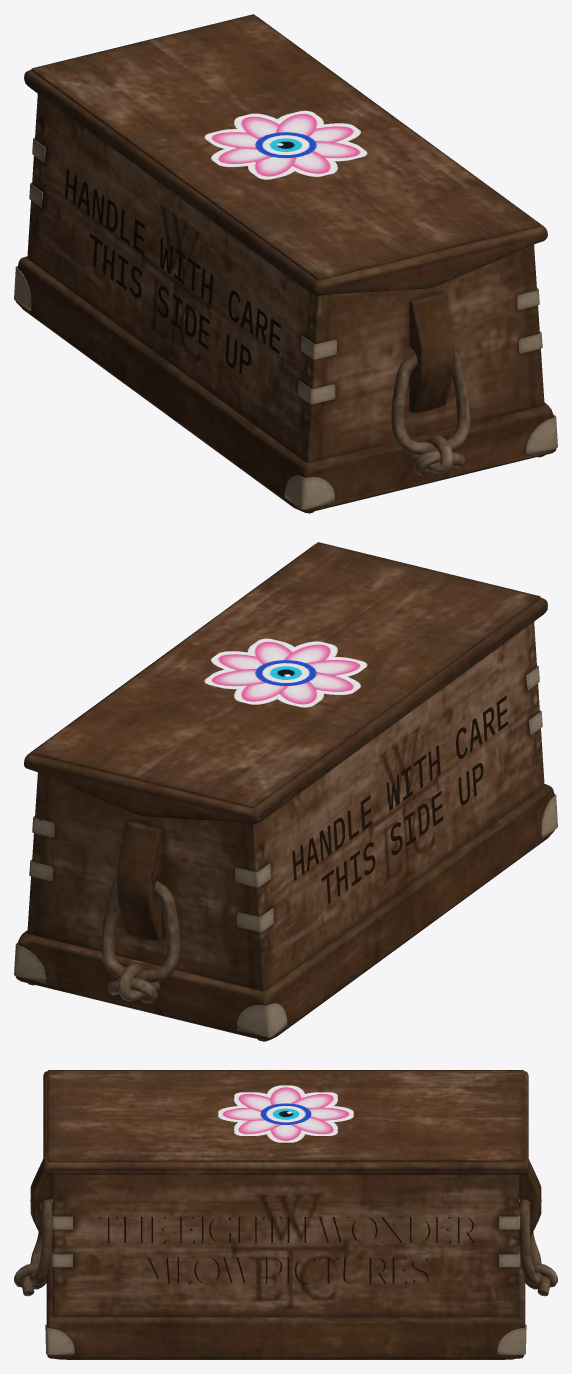
File: nyb_kong_crate.glb
The picture shows the model from 3 angles, top to bottom: view 1: azimuth 30°, elevation 25°; view 2: azimuth 150°, elevation 25°; view 3: azimuth 270°, elevation 25°; orthographic projection. The views are drawn at different scales.
Parts seen in each view (by area): view 1: wooden_crate_02_crate, stk_eyeflower_die.png, stk_lbl_011f0c6bc9.png; view 2: wooden_crate_02_crate, stk_eyeflower_die.png, stk_lbl_011f0c6bc9.png; view 3: wooden_crate_02_crate, stk_eyeflower_die.png, stk_lbl_585b5434d1.png.
Part boxes in pixels (<box>): wooden_crate_02_crate: <box>14,14,557,513</box>; stk_eyeflower_die.png: <box>204,110,367,179</box>; stk_lbl_011f0c6bc9.png: <box>65,169,280,374</box>; wooden_crate_02_crate: <box>14,542,557,1041</box>; stk_eyeflower_die.png: <box>204,638,367,707</box>; stk_lbl_011f0c6bc9.png: <box>292,695,508,903</box>; wooden_crate_02_crate: <box>14,1070,557,1359</box>; stk_eyeflower_die.png: <box>218,1085,353,1142</box>; stk_lbl_585b5434d1.png: <box>99,1216,474,1283</box>.
Bounding box in the file's own units: 0.5291 × 0.4665 × 1.17.
4 materials, 4 textured.
